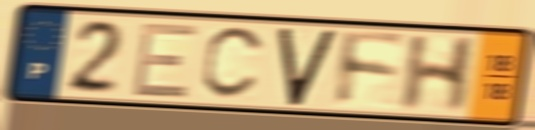2: (63, 18, 127, 96)
C: (198, 25, 270, 103)
E: (128, 20, 202, 101)
F: (334, 28, 410, 110)
H: (396, 34, 481, 115)
V: (275, 27, 340, 109)
